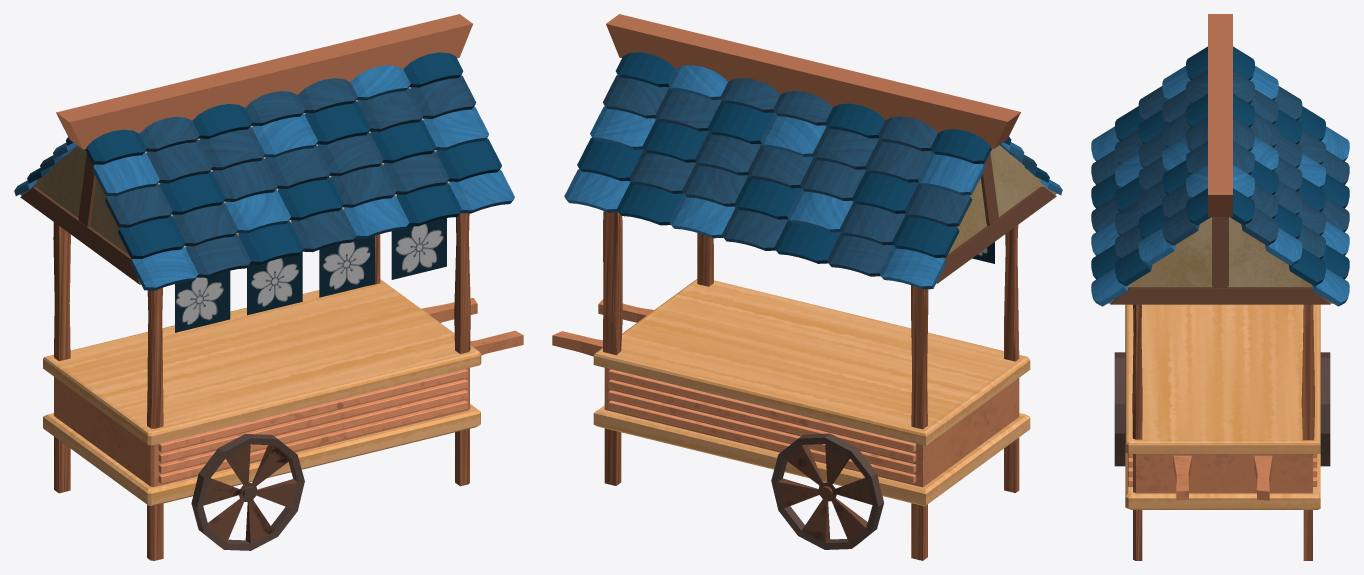
File: booth 1-1.fbx
3 views of the same model, side by side, from view 1: azimuth 30°, elevation 25°; view 2: azimuth 150°, elevation 25°; view 3: azimuth 270°, elevation 25° (orthographic). The views are drawn at different scales.
Visible parts, largest first — view 1: Cube.003, Cube.030, Cube.002, Plane, Cube.004, Cylinder.001, Cylinder, Cube; view 2: Cube.030, Cube.003, Cube.002, Cube.004, Cylinder.001, Cylinder, Cube; view 3: Cube.030, Cube.003, Cylinder, Cube.002, Cube, Cylinder.001.
Boxes of the visible parts, x1,y1,x2,y2 form: Cube.003: (14,52,514,290); Cube.030: (43,213,523,560); Cube.002: (56,14,472,149); Plane: (175,218,446,332); Cube.004: (158,369,467,483); Cylinder.001: (191,434,304,550); Cylinder: (20,87,449,255); Cube: (20,154,140,284); Cube.030: (552,211,1030,560); Cube.003: (564,52,1062,289); Cube.002: (606,14,1020,148); Cube.004: (608,369,916,483); Cylinder.001: (771,433,883,549); Cylinder: (629,87,1056,254); Cube: (936,153,1056,283); Cube.030: (1125,304,1320,560); Cube.003: (1091,46,1349,306); Cylinder: (1108,217,1332,303); Cube.002: (1208,14,1232,216); Cube: (1110,217,1330,304); Cylinder.001: (1114,352,1330,466).
Size of the model in its own units: 1711 by 1580 by 954.
Materials: 1 (1 with a texture image).
